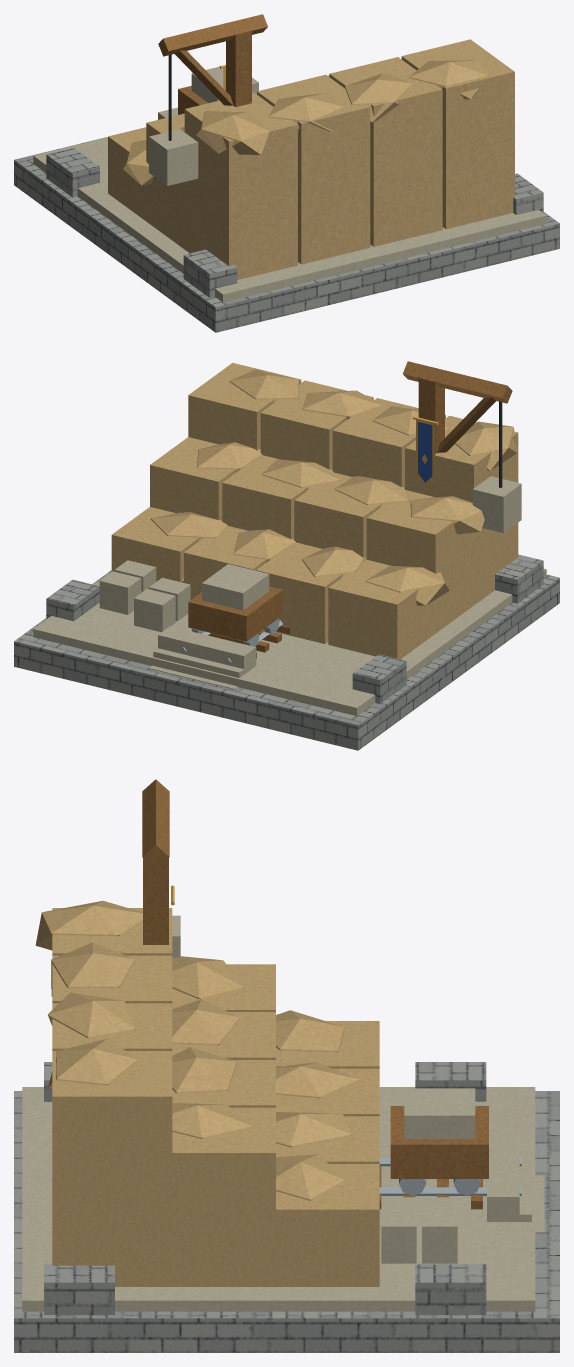
File: Quarry_1.fbx
3 renders of one model, top to bottom at view 1: azimuth 30°, elevation 25°; view 2: azimuth 150°, elevation 25°; view 3: azimuth 270°, elevation 25°, orthographic. The views are drawn at different scales.
Parts seen in each view (by area): view 1: Quarry_1; view 2: Quarry_1; view 3: Quarry_1.
Boxes of the visible parts, x1=… form: Quarry_1: x1=14, y1=14, x2=559, y2=332; Quarry_1: x1=14, y1=361, x2=559, y2=750; Quarry_1: x1=14, y1=779, x2=559, y2=1352.
Bounding box in the file's own units: 1 × 0.7 × 1.
1 material, 1 textured.
